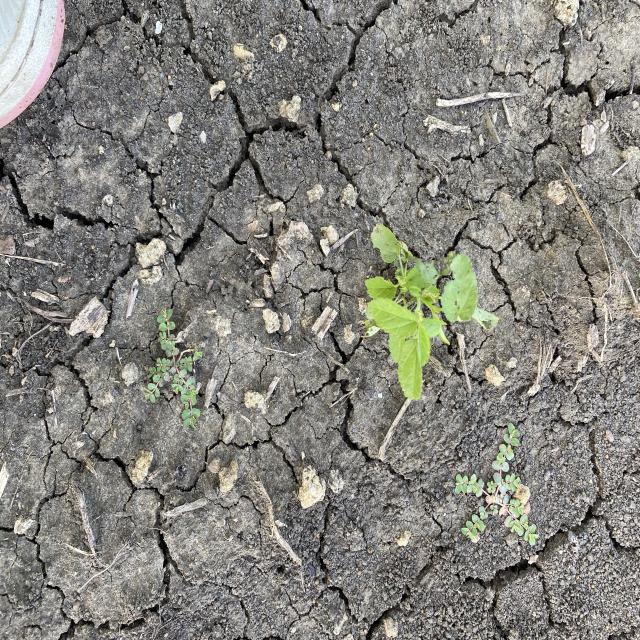PricklySida: (364, 223, 501, 402)
SpottedSpurge: (453, 422, 541, 548), (142, 306, 204, 432)
